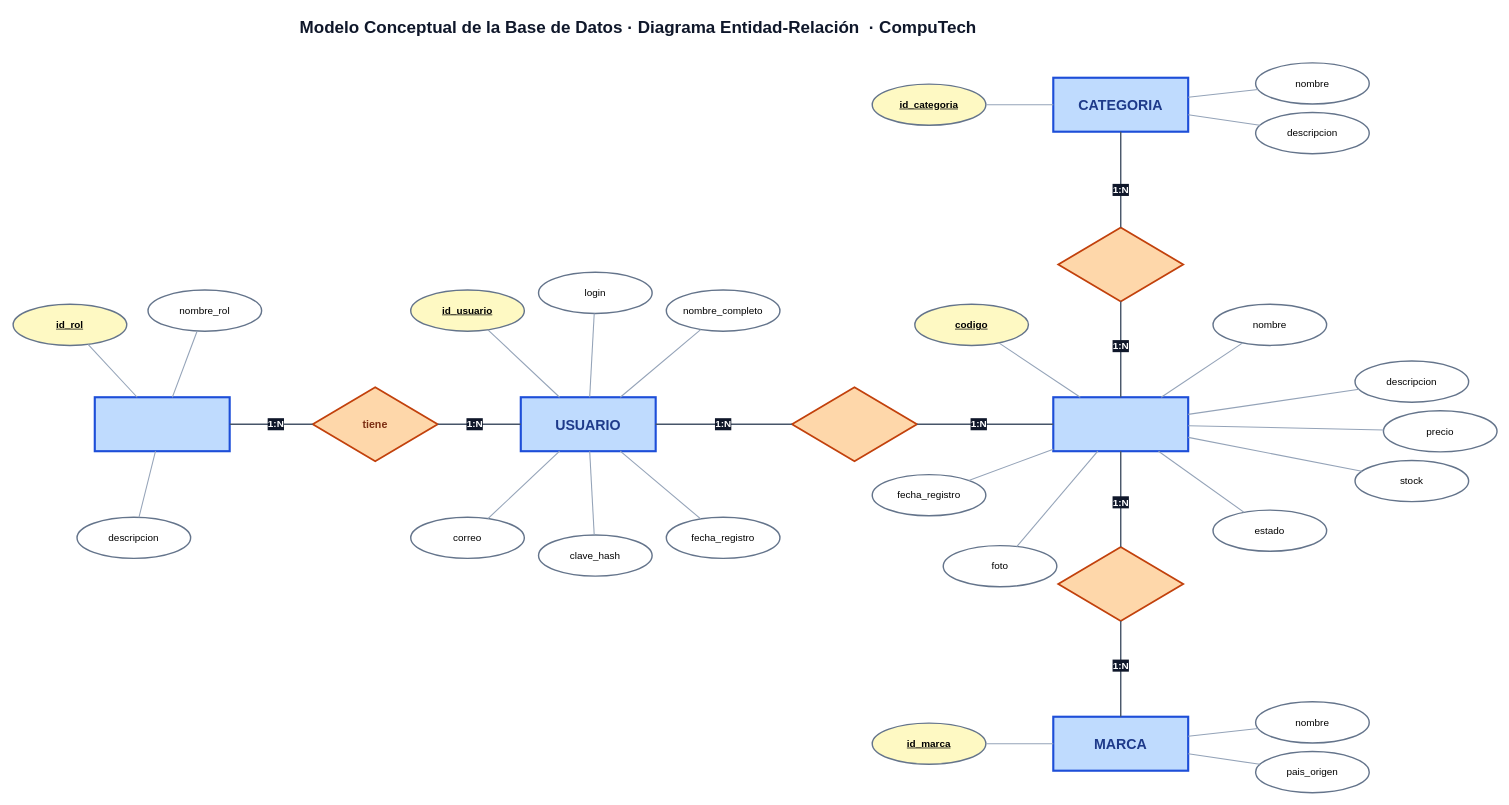
Image size: 1509x805. Some labels were removed from this diagram. Here are the shapes that lost their labels. From the top down, the box of each, then its label:
(1057, 226, 1184, 302): clasifica
(93, 396, 230, 452): ROL
(791, 386, 918, 462): registra
(1052, 396, 1189, 452): PRODUCTO
(1057, 546, 1184, 621): pertenece a
